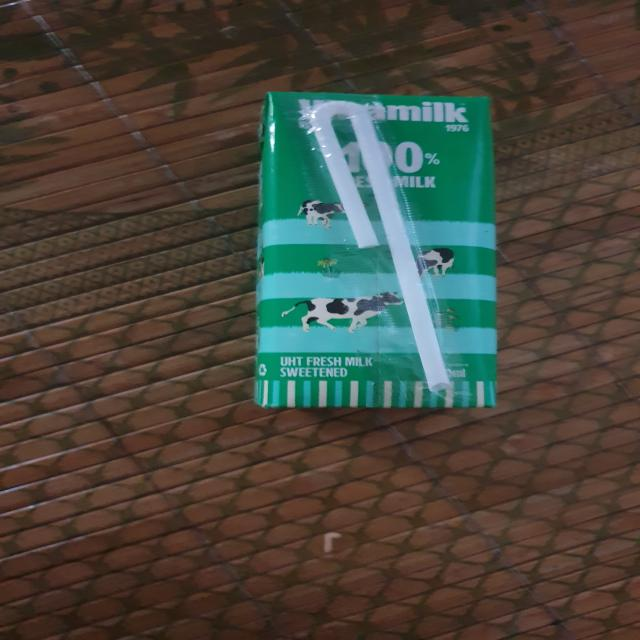Vina: (235, 93, 512, 415)
